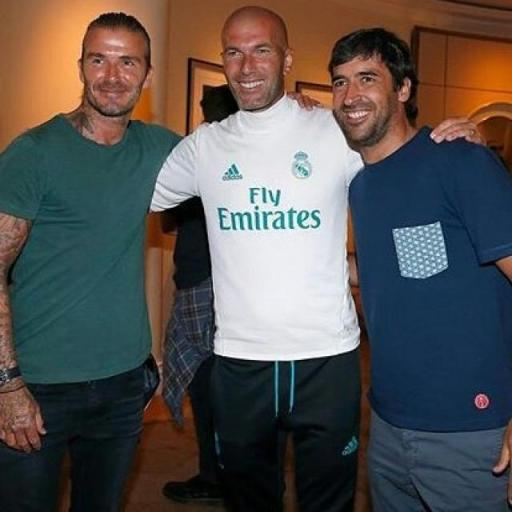Emirates: (214, 184, 320, 232)
